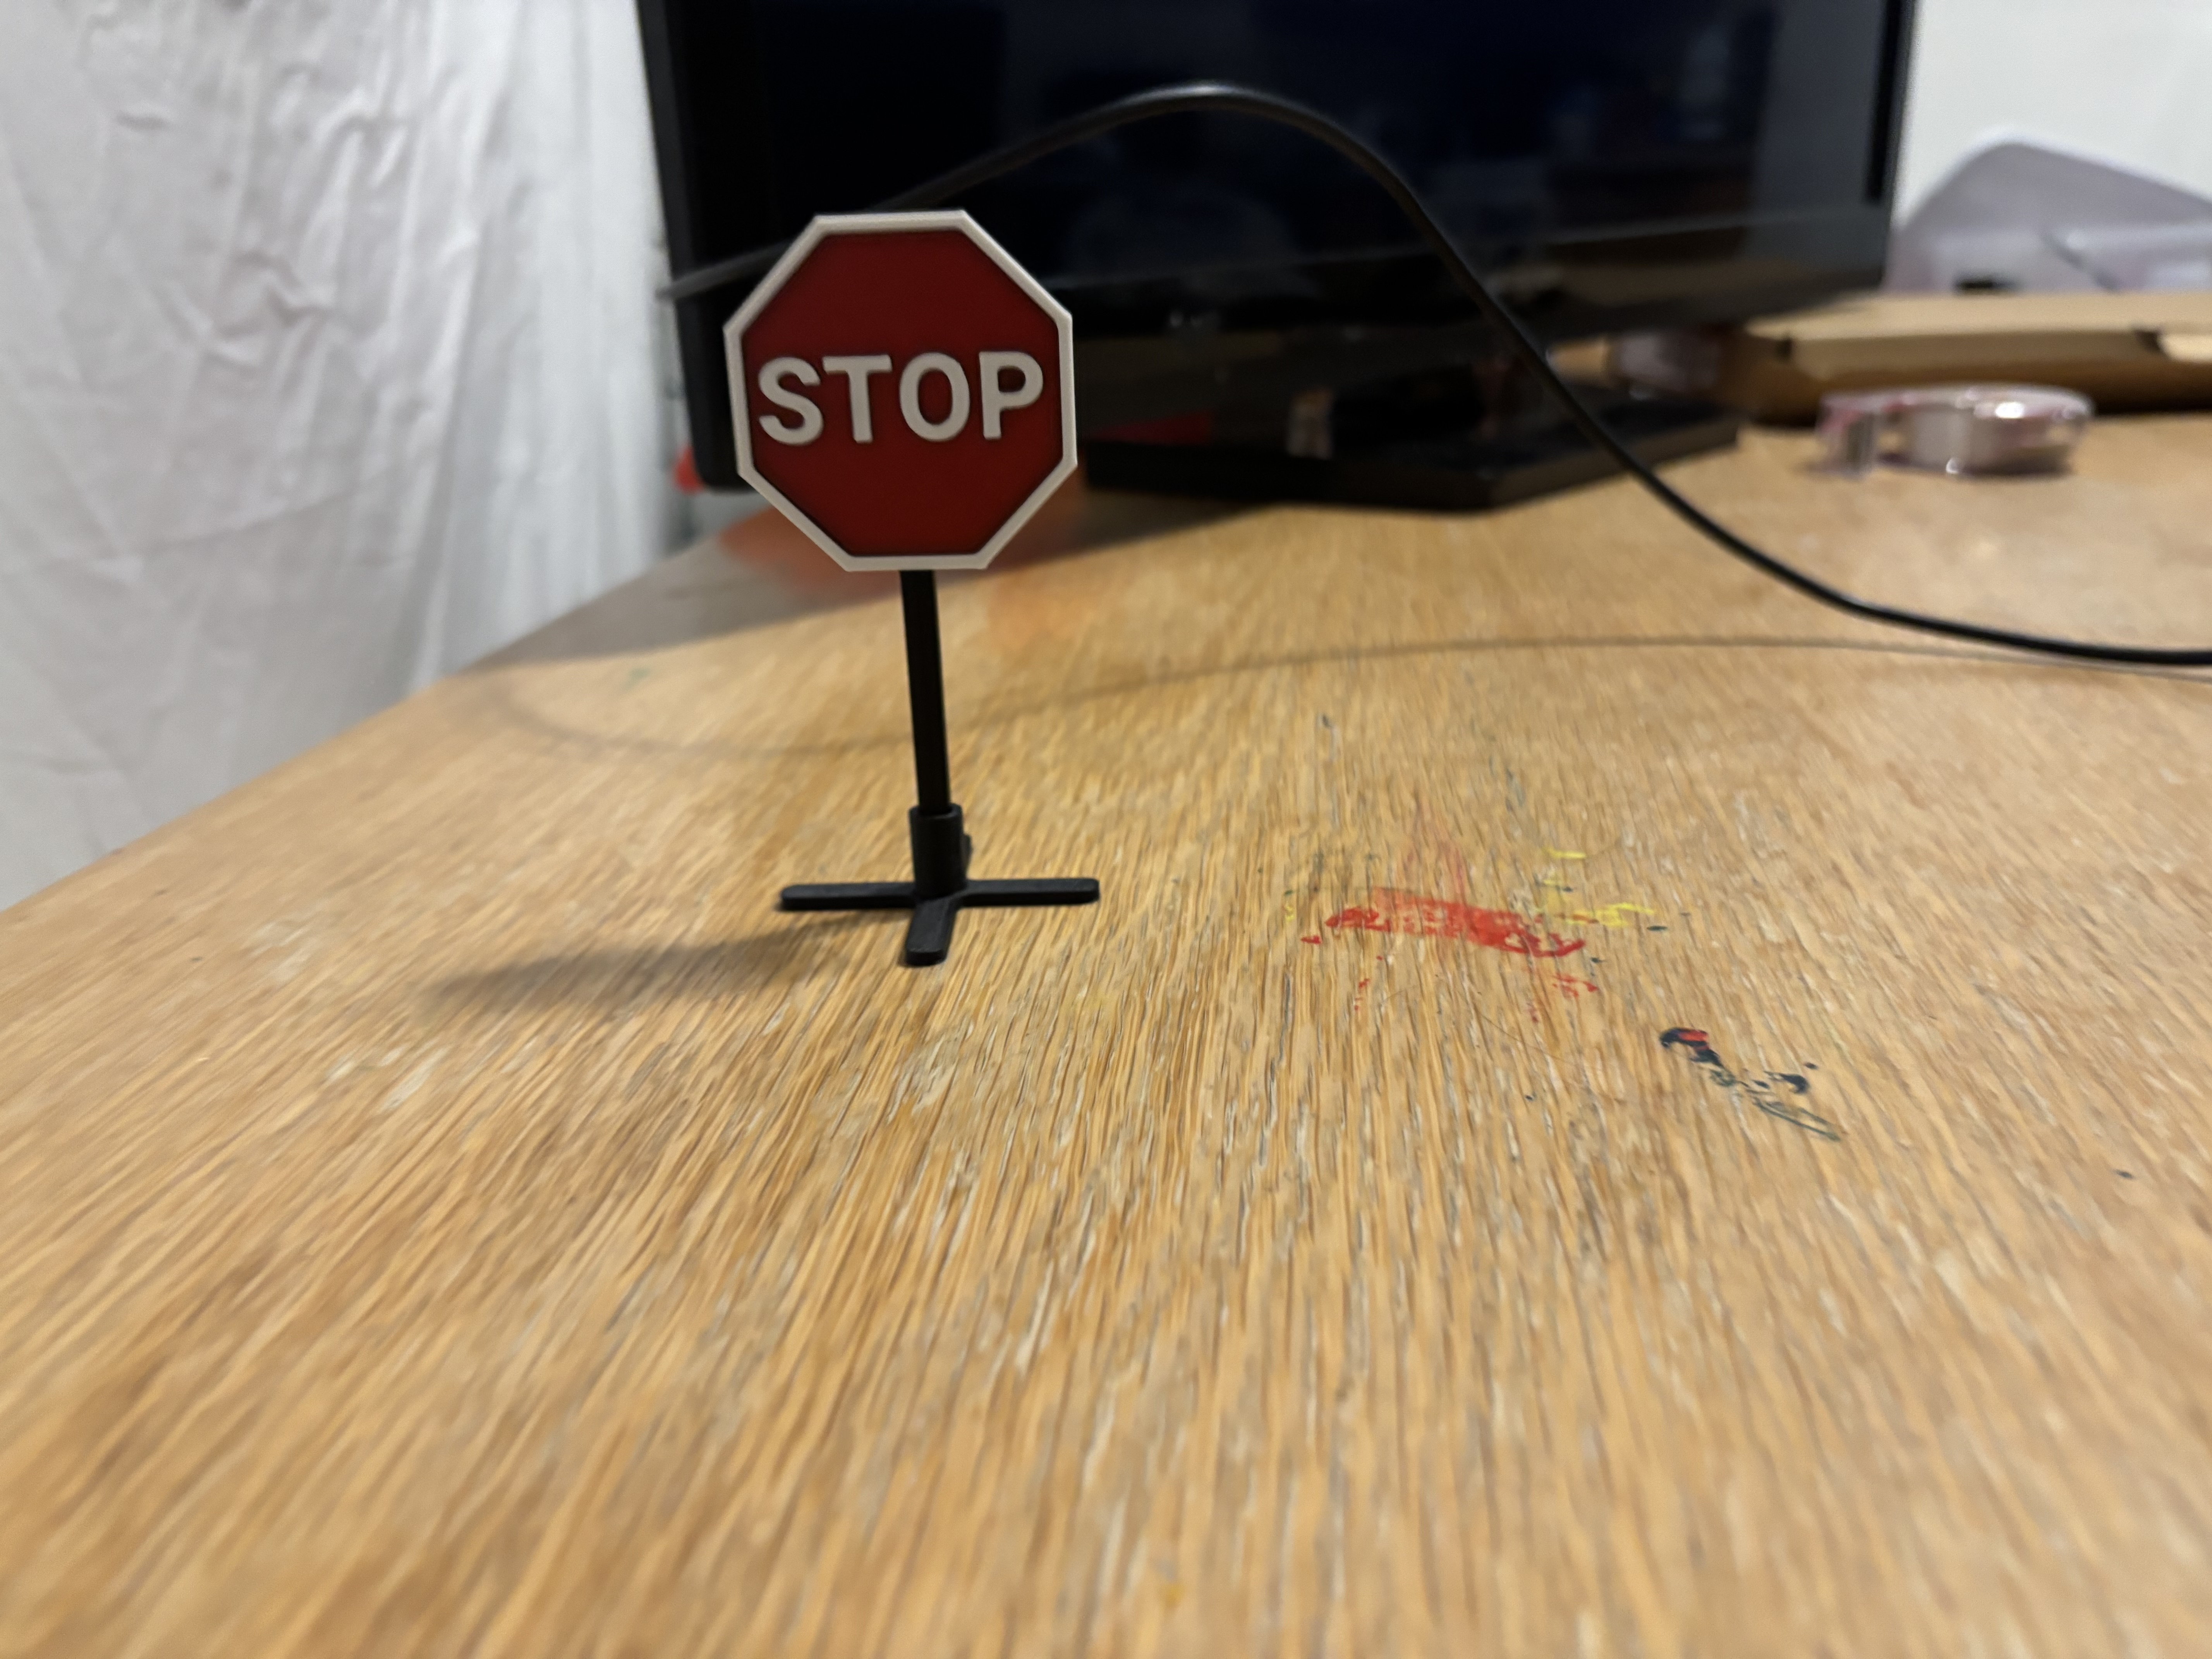sign_stop: (709, 204, 1083, 594)
